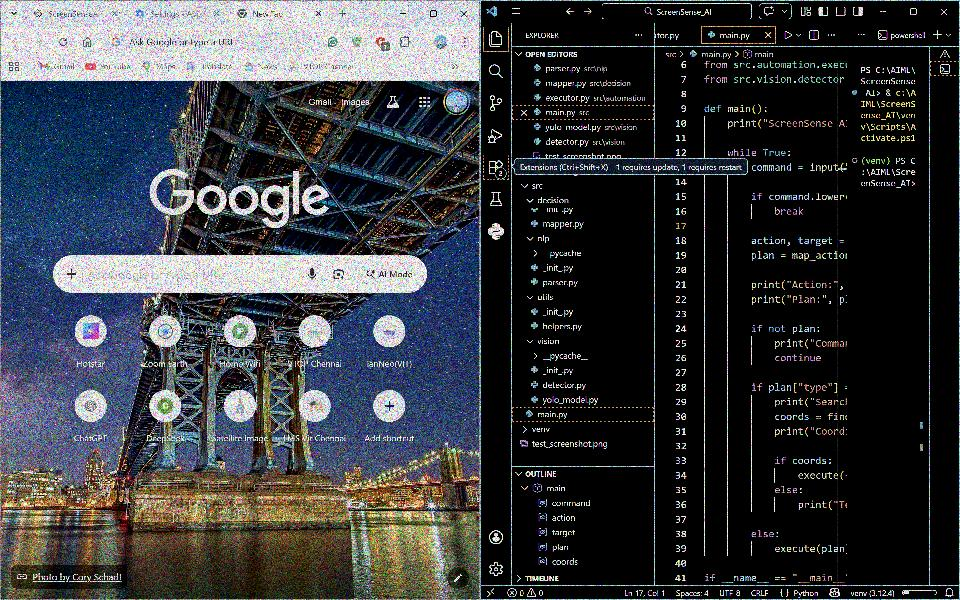close_button: (451, 3, 475, 25), (934, 3, 953, 21)
maximize_button: (425, 3, 445, 24), (903, 3, 924, 20)
minimize_button: (391, 2, 415, 26), (873, 2, 895, 22)
